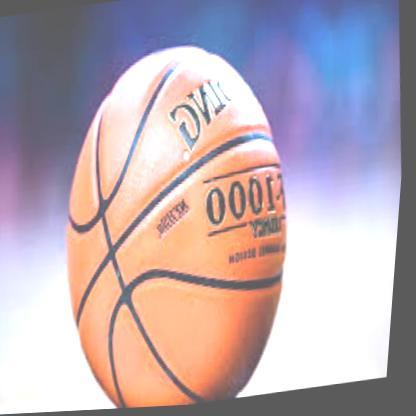basketball: (46, 35, 316, 413)
